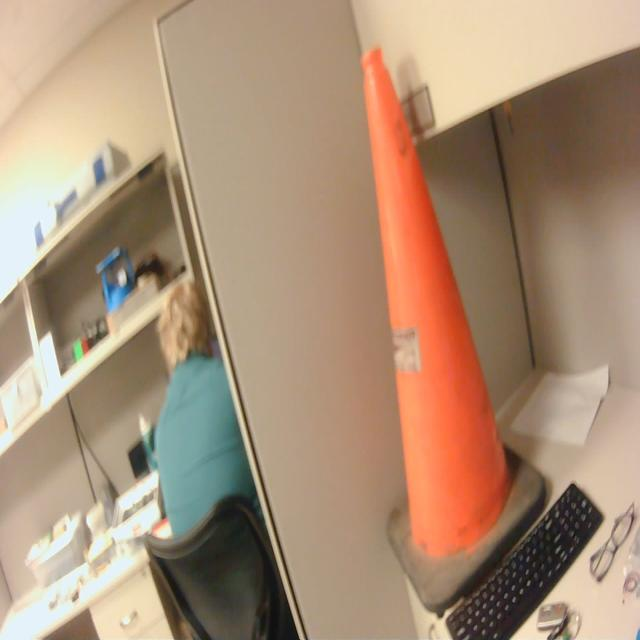traffic cone: (357, 42, 552, 625)
